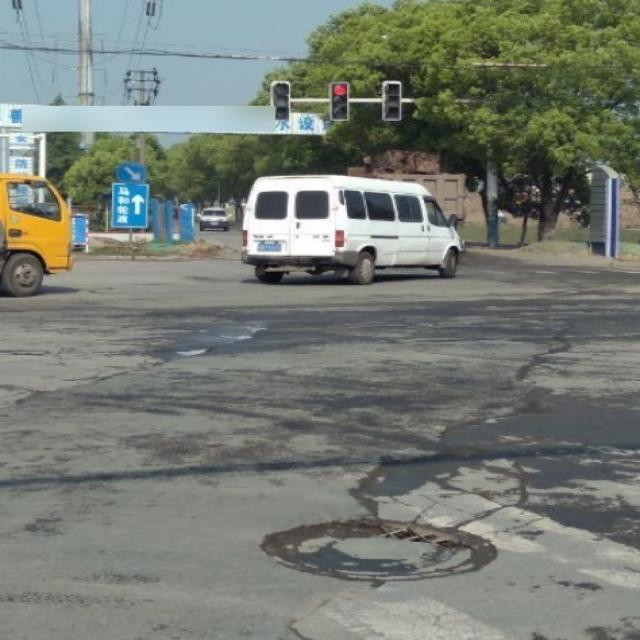Broken: (247, 503, 504, 594)
